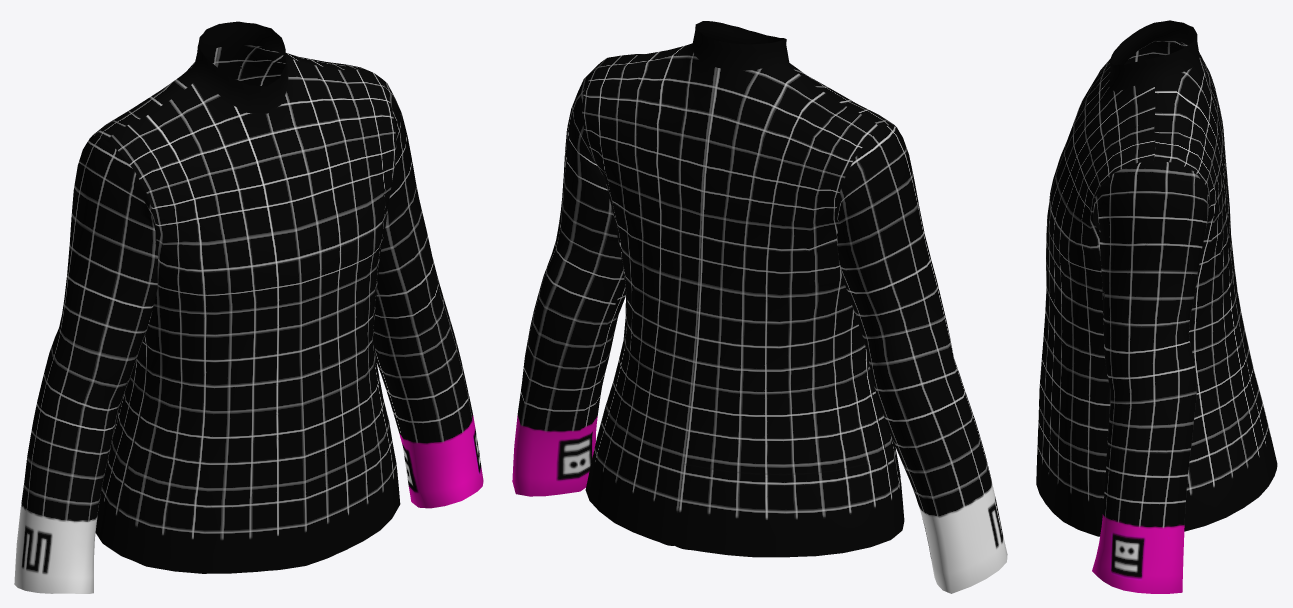
File: 116_longsleeve_a.glb
3 views of the same model, side by side, from view 1: azimuth 30°, elevation 25°; view 2: azimuth 150°, elevation 25°; view 3: azimuth 270°, elevation 25° (orthographic). The views are drawn at different scales.
Visible parts, largest first — view 1: longsleeve_apose; view 2: longsleeve_apose; view 3: longsleeve_apose.
Boxes of the visible parts, x1=… form: longsleeve_apose: x1=14, y1=21, x2=483, y2=593; longsleeve_apose: x1=512, y1=21, x2=1007, y2=593; longsleeve_apose: x1=1036, y1=20, x2=1277, y2=593.
Size of the model in its own units: 0.9064 by 0.9456 by 0.4389.
1 material, 1 textured.
